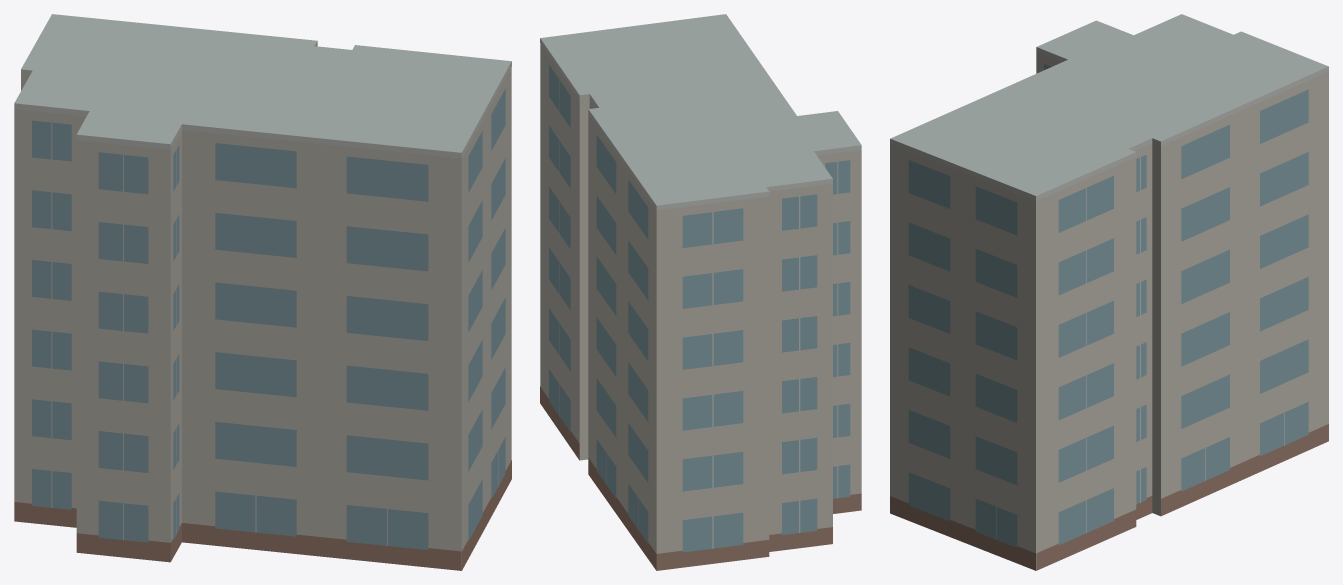
The model's file is survey-upis-32743069.glb.
3 renders of one model, left to right at view 1: azimuth 30°, elevation 25°; view 2: azimuth 150°, elevation 25°; view 3: azimuth 270°, elevation 25°, orthographic. The views are drawn at different scales.
Visible parts, largest first — view 1: survey-upis-32743069.tmp; view 2: survey-upis-32743069.tmp; view 3: survey-upis-32743069.tmp.
Part boxes in pixels (x1=…): survey-upis-32743069.tmp: x1=14, y1=14, x2=511, y2=570; survey-upis-32743069.tmp: x1=540, y1=14, x2=861, y2=570; survey-upis-32743069.tmp: x1=890, y1=14, x2=1328, y2=570.
Bounding box in the file's own units: 19.08 × 18.3 × 19.42.
